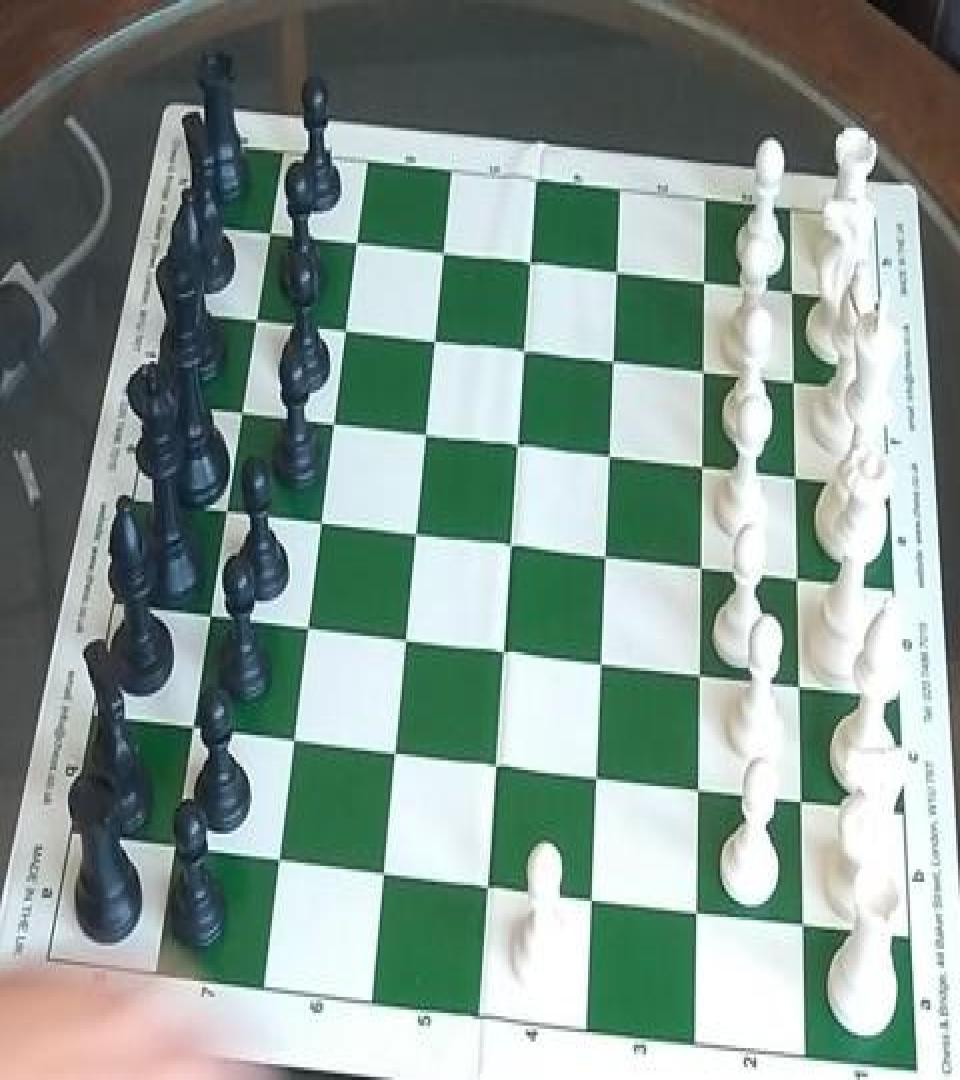xcorner: (474, 864, 500, 906), (685, 888, 711, 930), (790, 901, 816, 943), (686, 768, 712, 810), (491, 631, 517, 673), (688, 655, 714, 697), (787, 666, 813, 708), (403, 516, 429, 558), (498, 527, 524, 569), (594, 538, 620, 580), (228, 396, 254, 438), (413, 417, 439, 459), (505, 428, 531, 470), (784, 460, 810, 502), (332, 313, 358, 355), (422, 324, 448, 366), (602, 345, 628, 387), (431, 236, 457, 278), (518, 246, 544, 288), (694, 265, 720, 307), (782, 276, 808, 318), (160, 826, 186, 867), (264, 839, 290, 880), (369, 852, 395, 893), (579, 876, 605, 917), (179, 708, 205, 749), (280, 721, 306, 762), (381, 732, 407, 773), (483, 745, 509, 786), (584, 756, 610, 797), (789, 780, 815, 821), (196, 598, 222, 639), (294, 609, 320, 650), (392, 620, 418, 661), (589, 644, 615, 685), (213, 494, 239, 535), (308, 505, 334, 546), (689, 550, 715, 591), (785, 561, 811, 602), (320, 406, 346, 447), (598, 438, 624, 479), (691, 449, 717, 490), (243, 304, 269, 345), (512, 334, 538, 375), (692, 355, 718, 396), (783, 366, 809, 407), (257, 216, 283, 257), (344, 227, 370, 268), (606, 256, 632, 297)
